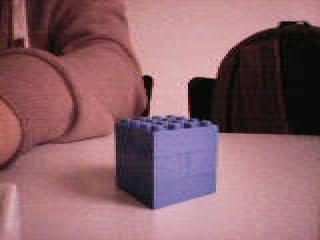legocube: (113, 115, 221, 209)
